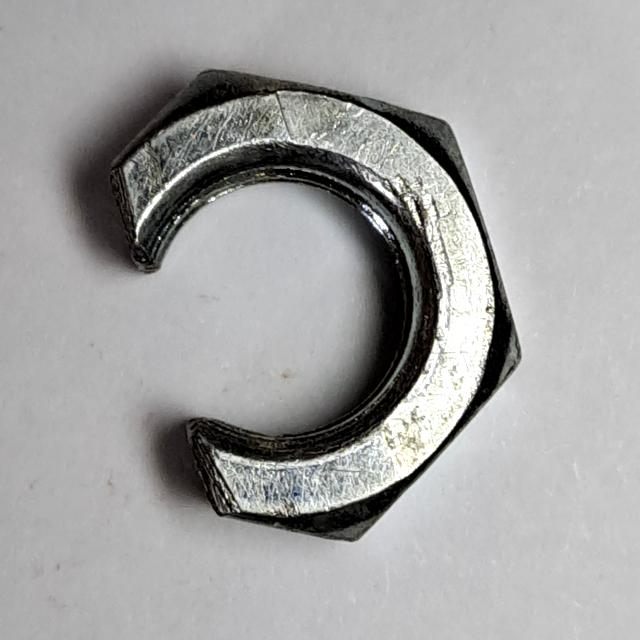Fracture: (94, 55, 536, 558)
